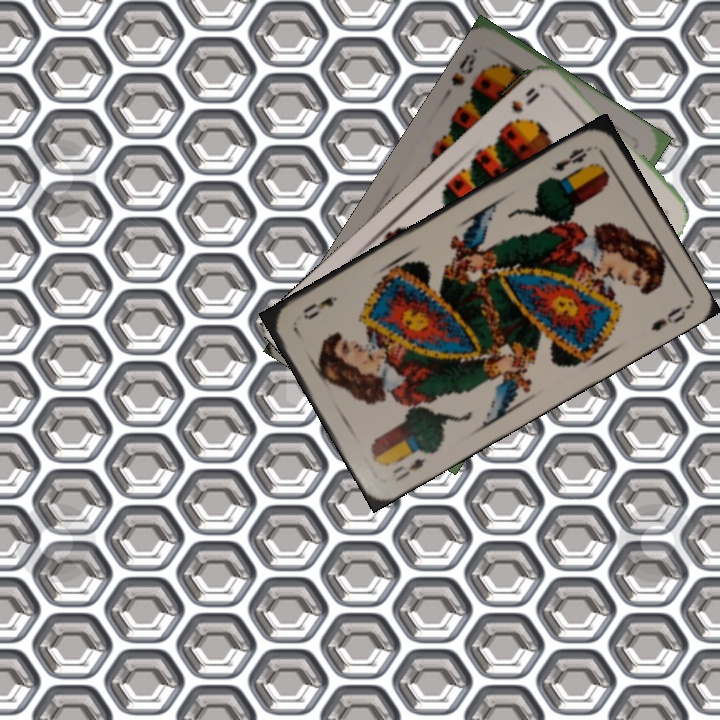EO: (546, 141, 595, 174), (388, 453, 429, 484)
S8: (447, 44, 481, 89)
S9: (500, 83, 543, 130)
